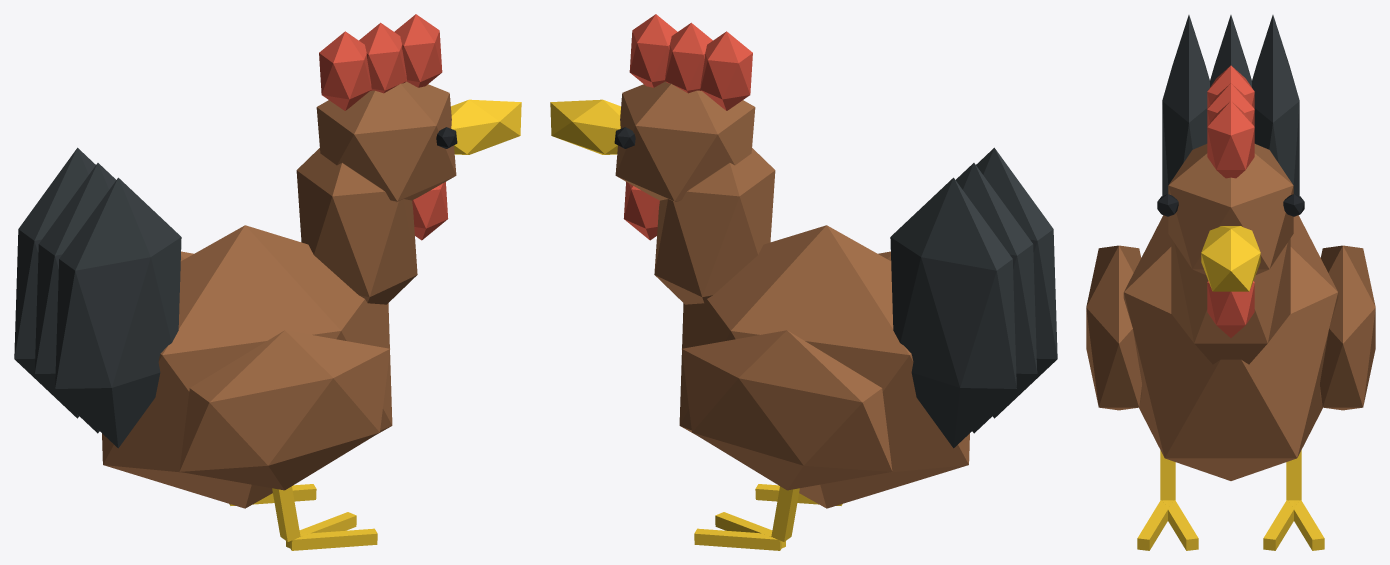
The model's file is TR3_Chicken_brown.glb.
The picture shows the model from 3 angles, left to right: view 1: azimuth 30°, elevation 25°; view 2: azimuth 150°, elevation 25°; view 3: azimuth 270°, elevation 25°; orthographic projection. The views are drawn at different scales.
Parts seen in each view (by area): view 1: TR3_Chicken_brown; view 2: TR3_Chicken_brown; view 3: TR3_Chicken_brown.
Part boxes in pixels (left/top/right/bottom): TR3_Chicken_brown: left=14, top=14, right=521, bottom=550; TR3_Chicken_brown: left=550, top=14, right=1057, bottom=550; TR3_Chicken_brown: left=1086, top=15, right=1375, bottom=550.
Size of the model in its own units: 0.8268 by 0.774 by 0.4136.
